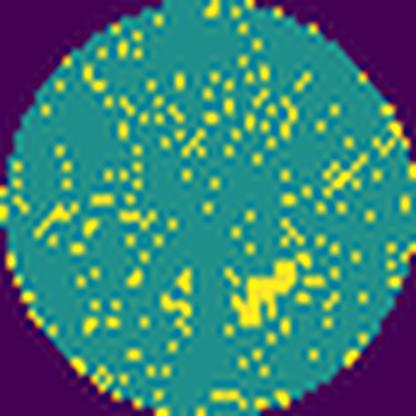Loc: (230, 254, 308, 328)
